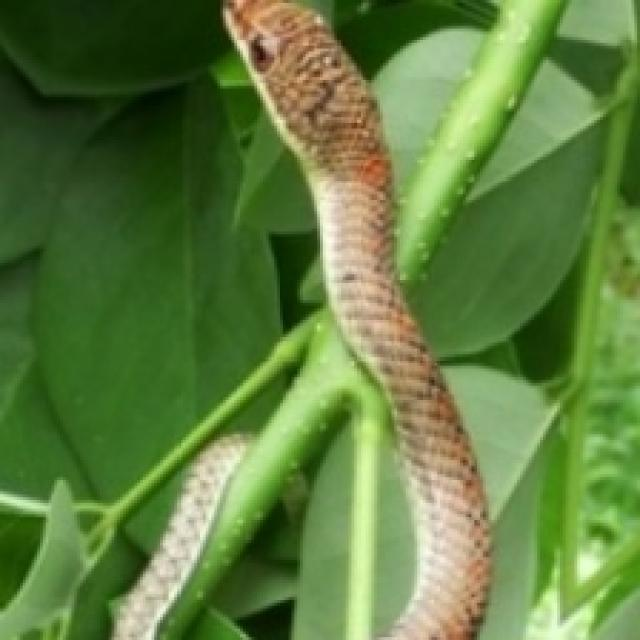paradise tree snake: (114, 0, 489, 637)
